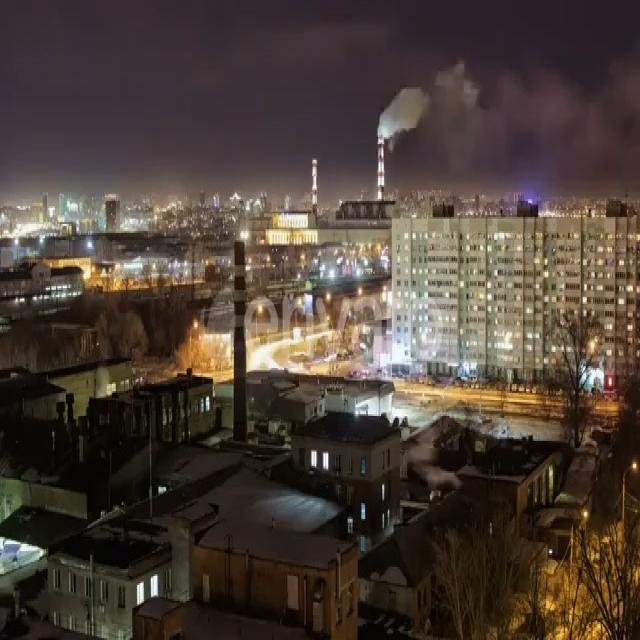smoke: (378, 62, 639, 167)
